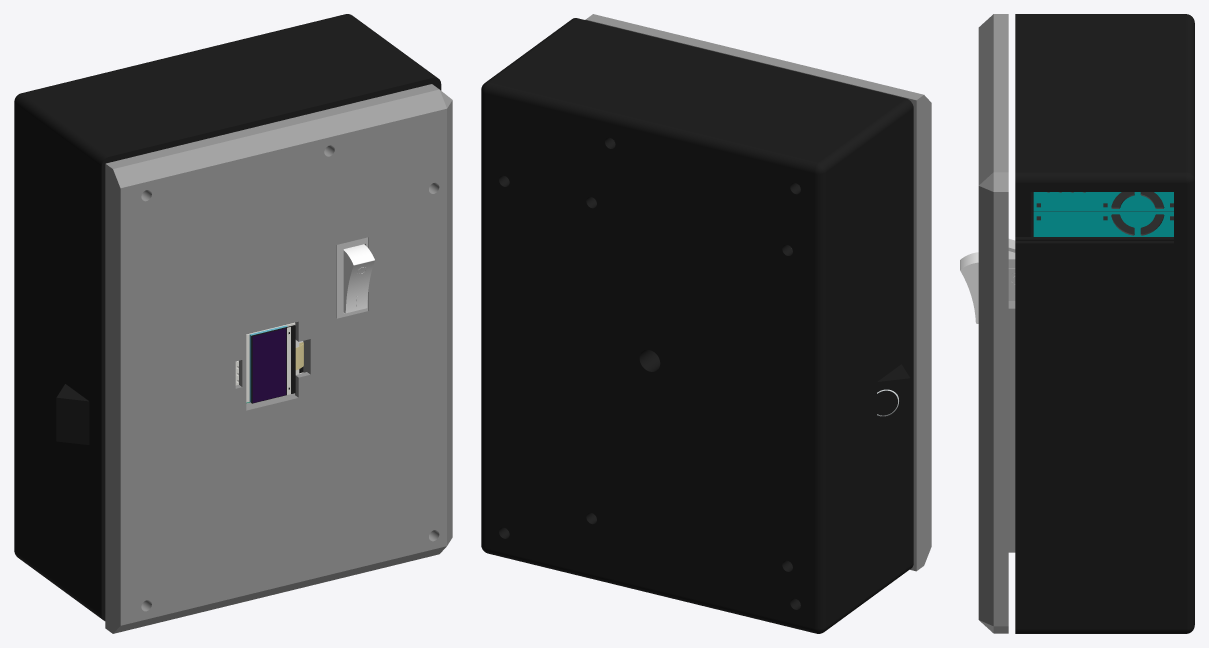
File: tripadfinalassembly.fbx
The picture shows the model from 3 angles, left to right: view 1: azimuth 30°, elevation 25°; view 2: azimuth 150°, elevation 25°; view 3: azimuth 270°, elevation 25°; orthographic projection. The views are drawn at different scales.
Visible parts, largest first — view 1: Body1 (×4), Body12, Body11; view 2: Body1 (×2); view 3: Body1 (×6).
Boxes of the visible parts, box(x1,y1,x2,y2) form: Body1 (×4): box(14, 14, 452, 633); Body12: box(252, 328, 286, 402); Body11: box(251, 325, 295, 403); Body1 (×2): box(481, 14, 931, 633); Body1 (×6): box(960, 14, 1194, 633).
Size of the model in its own units: 138 by 171 by 78.37.
